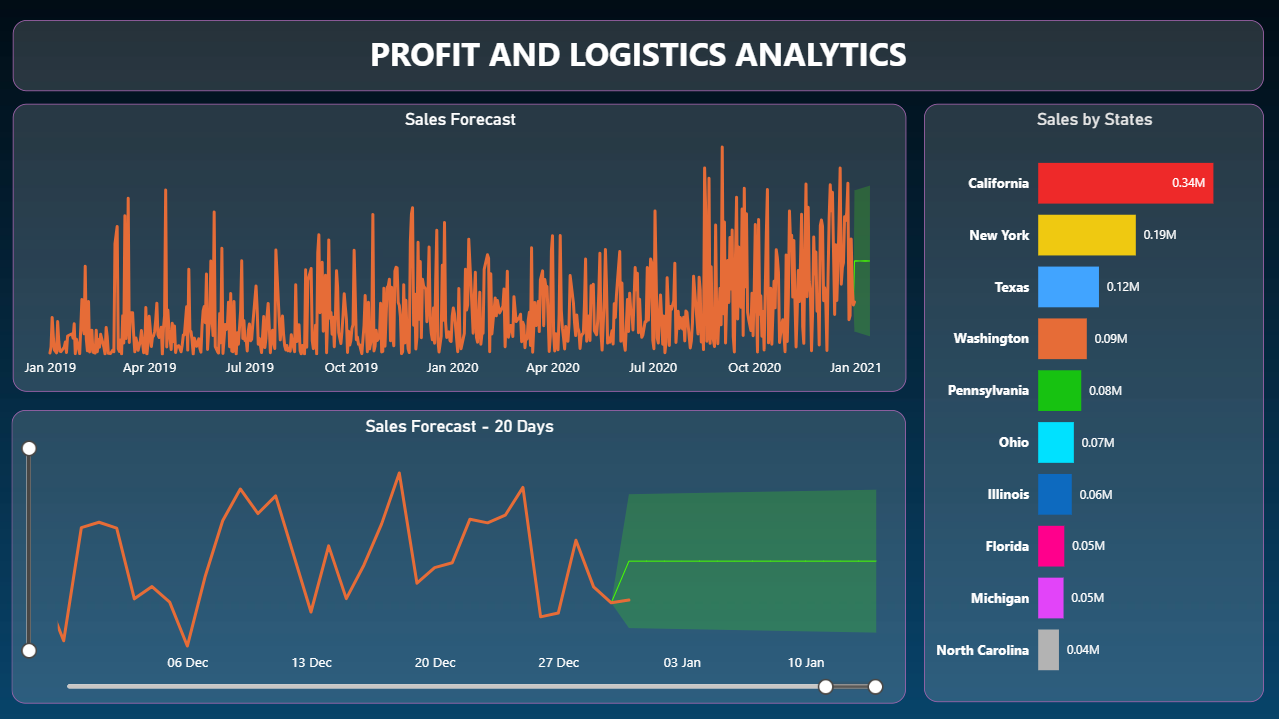

The page's visual inventory and layout, read from the dashboard file:
{"tool":"powerbi","page":{"name":"Page 2","canvas":[1280,720],"ordinal":1},"visuals":[{"type":"lineChart","title":"Sales Forecast ","fields":{"Y":["Sum(SuperStore_Sales_Dataset.Sales)"],"Category":["SuperStore_Sales_Dataset.Order Date"]},"box":[13.3,103.8,894,288.3],"z":0},{"type":"textbox","box":[13.5,19.6,1251.5,71.2],"z":1000},{"type":"clusteredBarChart","title":" Sales by States","fields":{"Category":["SuperStore_Sales_Dataset.State"],"Y":["Sum(SuperStore_Sales_Dataset.Sales)"]},"box":[925.2,104.3,339.9,598.8],"z":2000},{"type":"lineChart","title":"Sales Forecast - 20 Days","fields":{"Y":["Sum(SuperStore_Sales_Dataset.Sales)"],"Category":["SuperStore_Sales_Dataset.Order Date"]},"box":[12.8,410.1,894.5,293.5],"z":3000}]}

Visuals, with their boxes in screenshot pixels (x1, y1, x2, y2), scaled from the page's 1280x720 canvas onto the 1279x719 screenshot:
"Sales Forecast " lineChart: x1=13 y1=104 x2=907 y2=392
textbox: x1=13 y1=20 x2=1264 y2=91
" Sales by States" clusteredBarChart: x1=924 y1=104 x2=1264 y2=702
"Sales Forecast - 20 Days" lineChart: x1=13 y1=410 x2=907 y2=703
